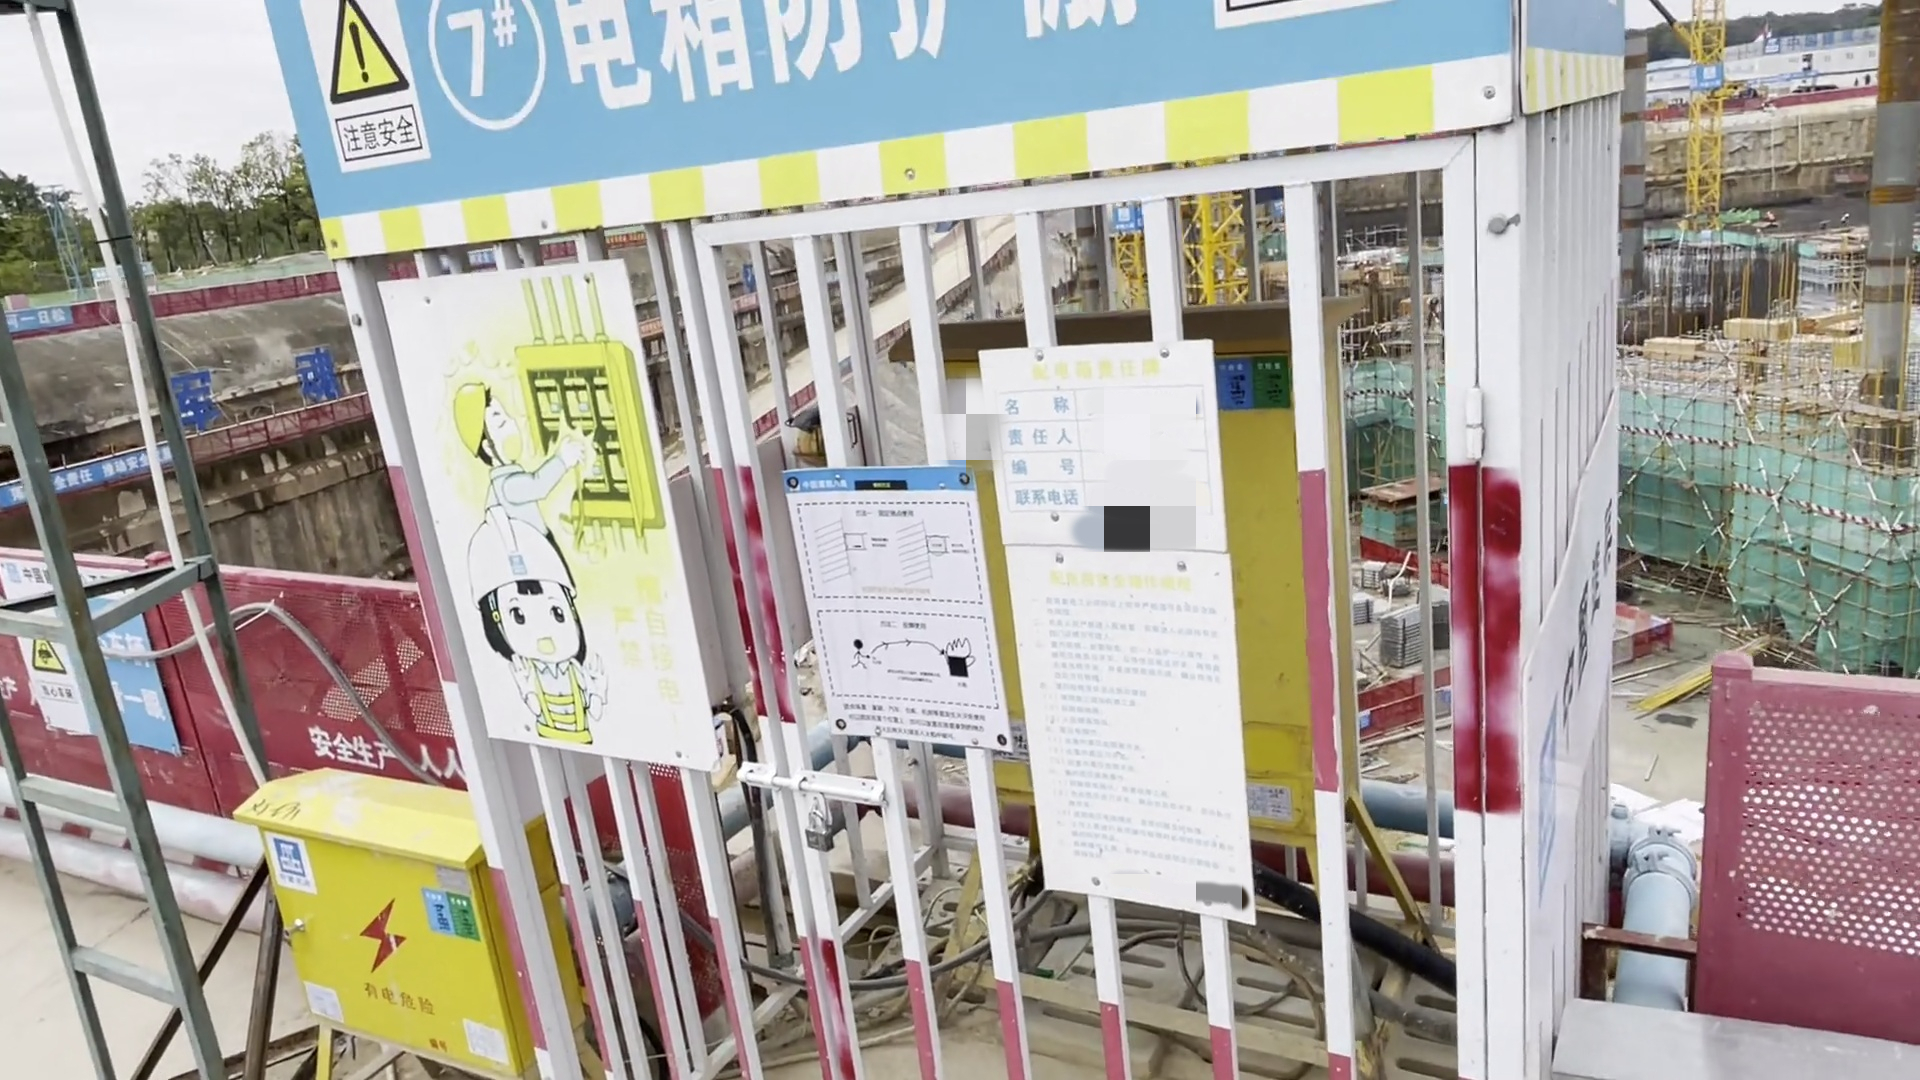ebox: (243, 757, 516, 1079)
fence: (1665, 651, 1920, 1031)
slogan: (375, 262, 732, 775), (7, 541, 200, 764)
